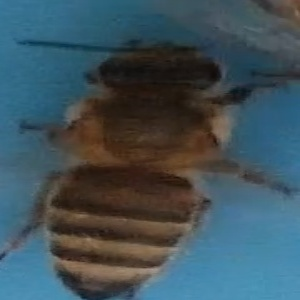bee: (28, 35, 278, 300)
